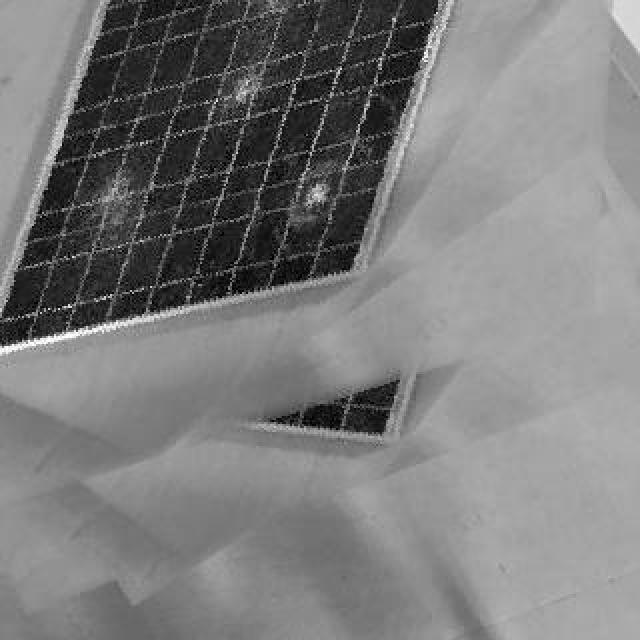Physical-damage: (266, 139, 354, 245), (92, 166, 176, 258), (225, 66, 283, 123)
